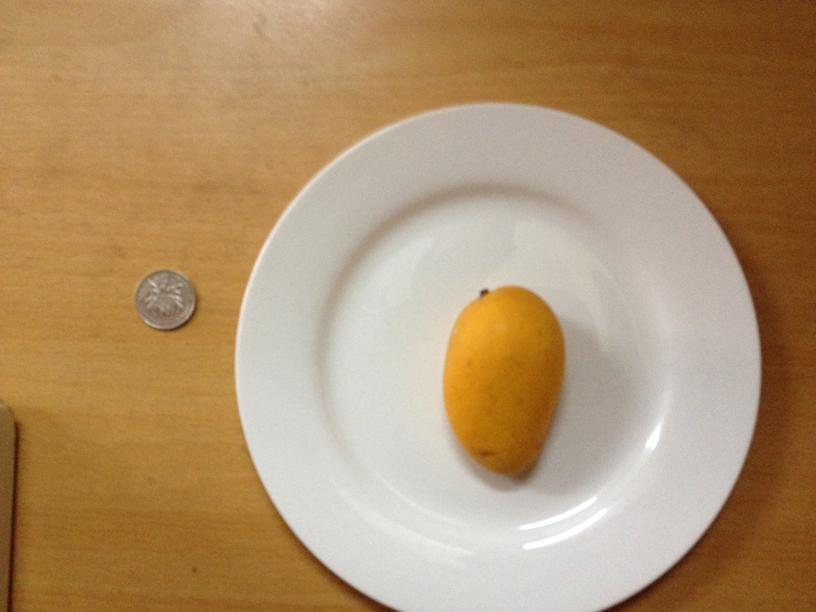coin: (132, 270, 196, 330)
mango: (444, 285, 564, 471)
